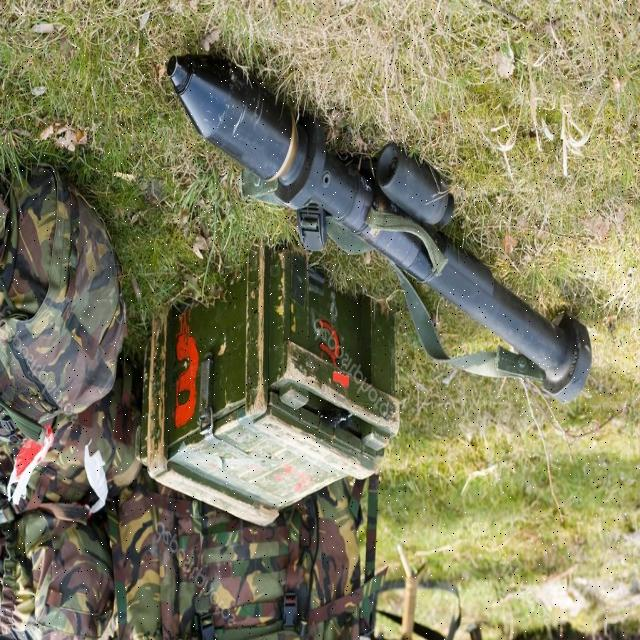bazooka: (159, 41, 595, 406)
